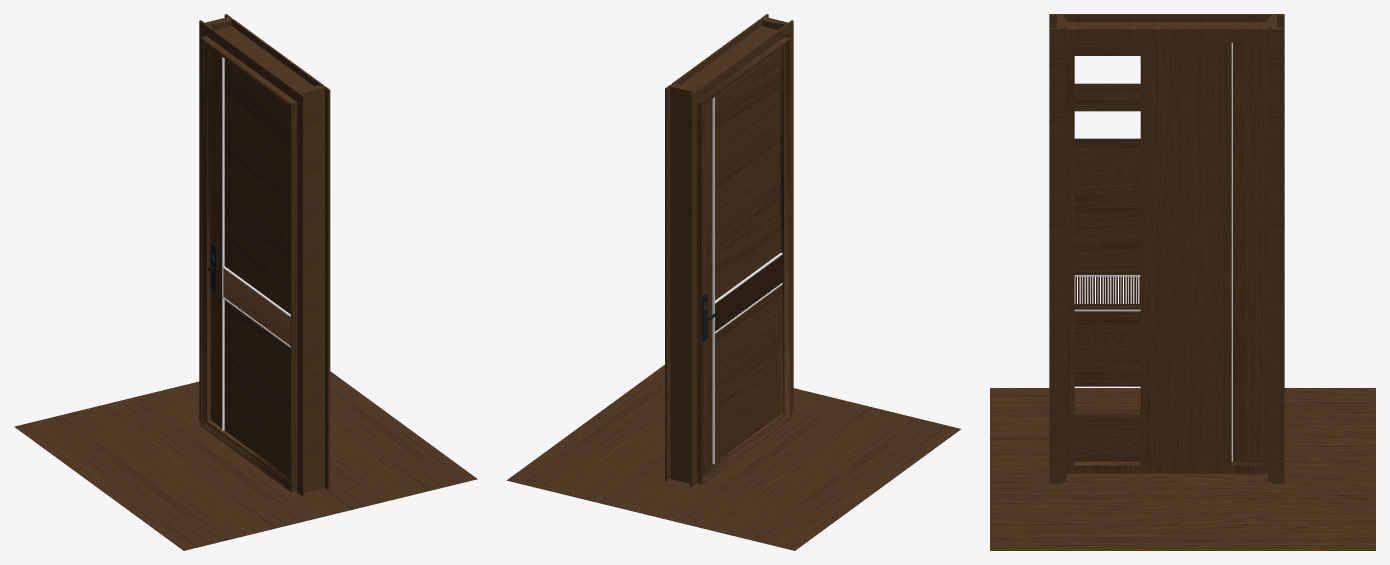
File: DOOR2.gltf
3 renders of one model, left to right at view 1: azimuth 30°, elevation 25°; view 2: azimuth 150°, elevation 25°; view 3: azimuth 270°, elevation 25°, orthographic. The views are drawn at different scales.
Visible parts, largest first — view 1: door.002, Plane, door.001, door.003, door.004; view 2: door.002, Plane, door.001, door.003, door.004; view 3: door.002, Plane, door.003, door.001, door.004.
Boxes of the visible parts, x1,y1,x2,y2 form: door.002: (199, 14, 330, 496); Plane: (14, 371, 477, 550); door.001: (200, 36, 297, 491); door.003: (210, 48, 290, 430); door.004: (223, 269, 290, 345); door.002: (665, 14, 793, 487); Plane: (506, 365, 960, 550); door.001: (697, 37, 790, 484); door.003: (702, 97, 782, 470); door.004: (715, 255, 782, 331); door.002: (1049, 14, 1284, 483); Plane: (990, 388, 1375, 550); door.003: (1074, 42, 1262, 461); door.001: (1066, 42, 1267, 473); door.004: (1075, 276, 1140, 303).
Bounding box in the file's own units: 2 × 2.6 × 2.
8 materials, 7 textured.
